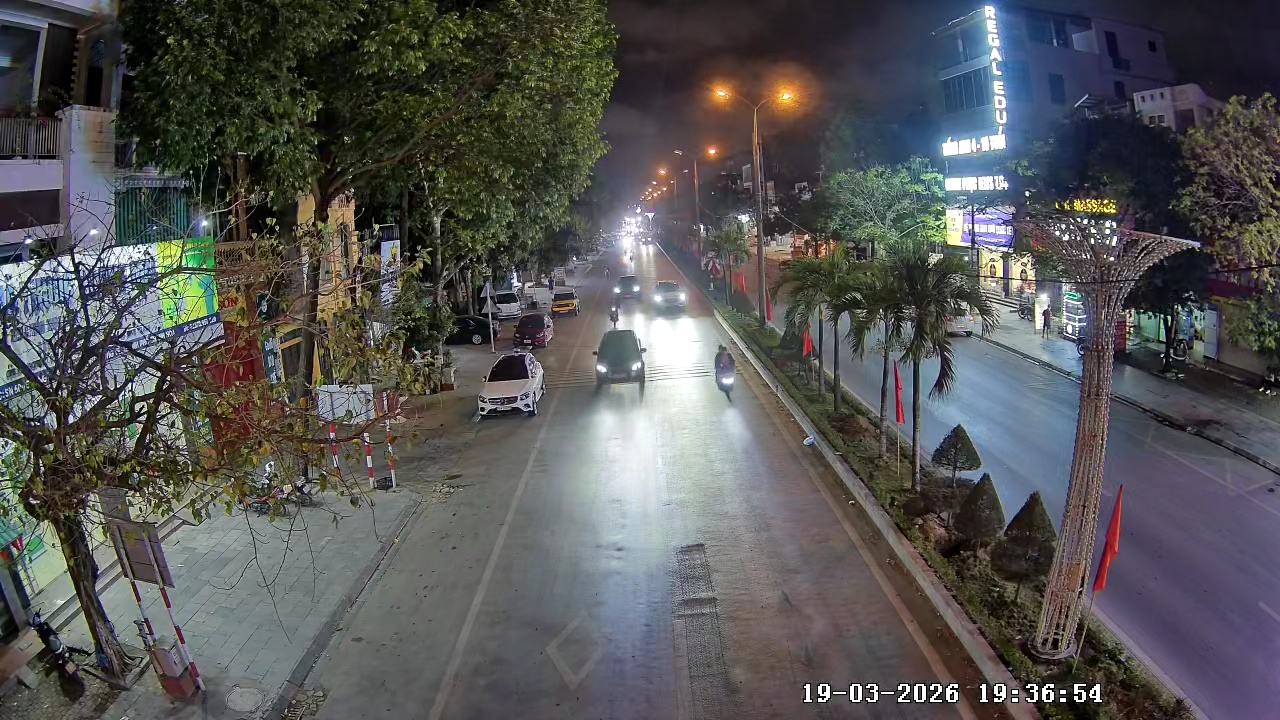bike: (713, 344, 737, 402)
car: (474, 349, 548, 419), (591, 327, 648, 396), (513, 310, 554, 349), (605, 272, 647, 306), (649, 279, 688, 315), (552, 279, 580, 317)
motorbike: (712, 343, 738, 402), (608, 300, 622, 329)
